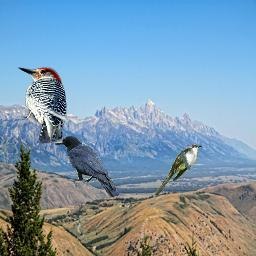Crow: (54, 135, 120, 199)
Cuckoo: (154, 144, 202, 198)
Woodpecker: (15, 63, 69, 143)
